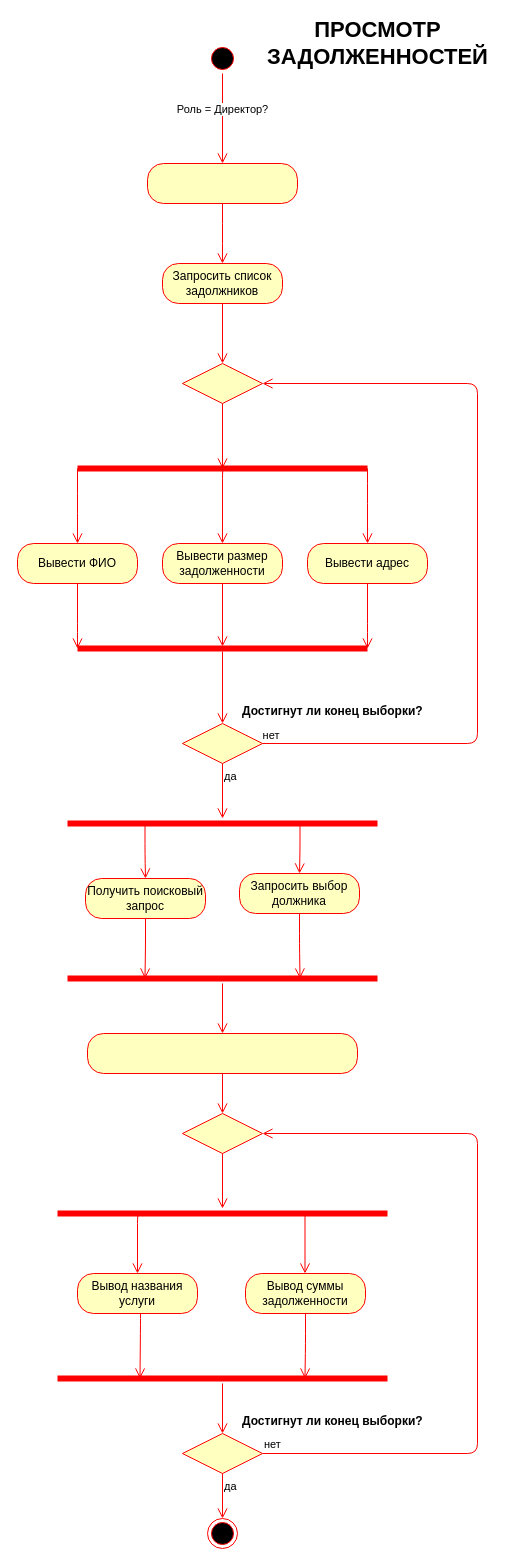
Image size: 505x1566. Some labels were removed from this diagram. Each missing label, with the centre of its shape:
Загрузить список данных о квартиргосъемщиках: (222,183)
Запрос о детальной информации по задолженности выбранного должника: (222,1053)
